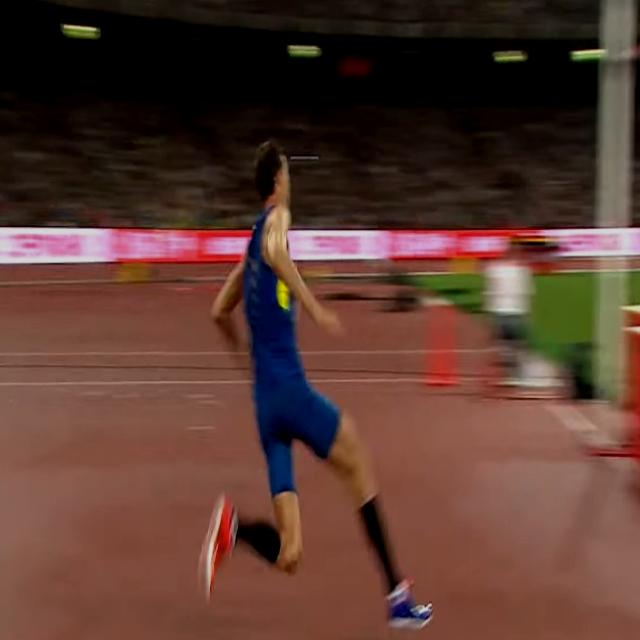run: (198, 133, 435, 628)
